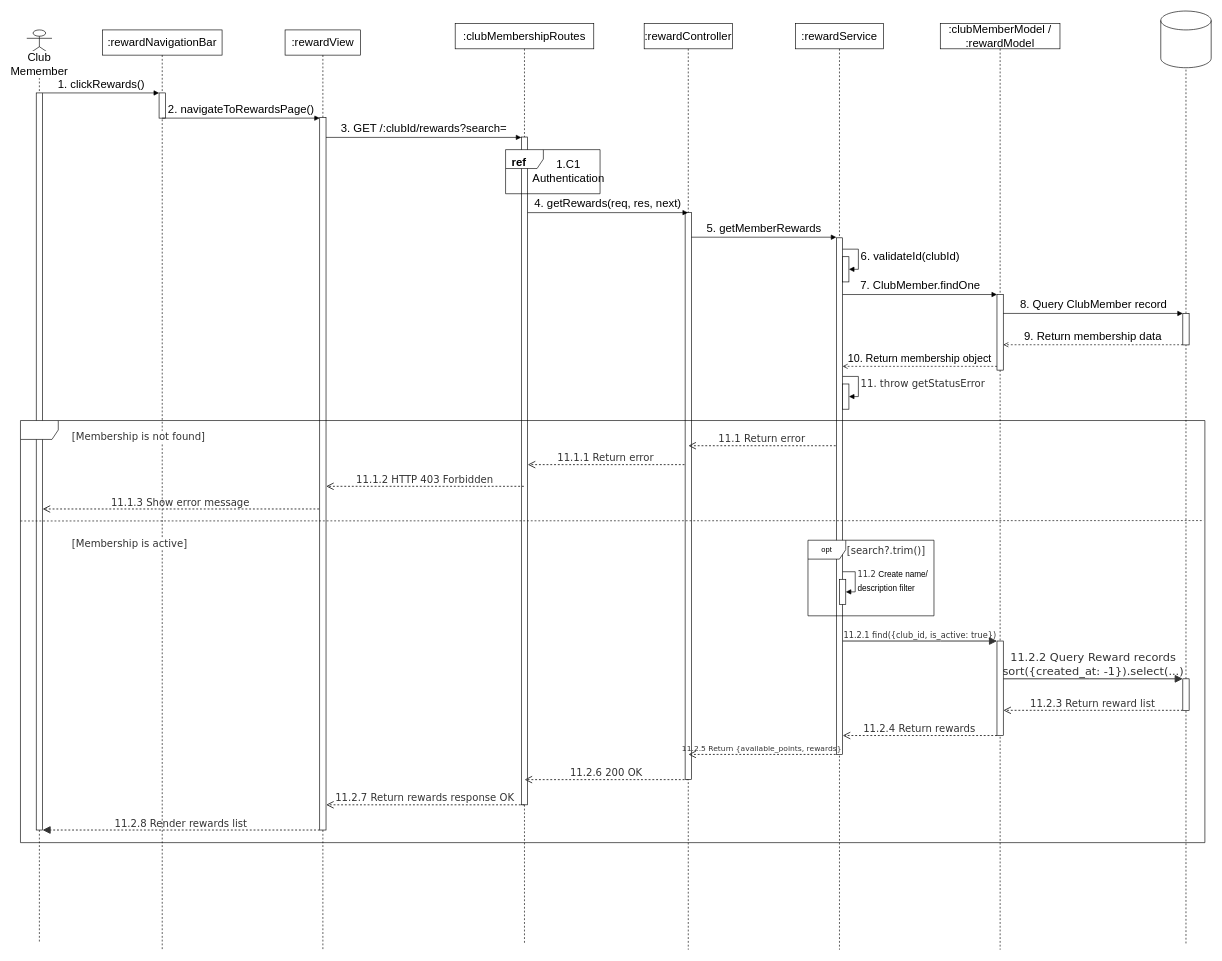
The diagram is 1222 pixels wide and 961 high, and some of its shapes have lost their labels. Each missing label, with the centre of its shape:
"alt" belongs at [612,631].
"Database" belongs at [1185,39].
